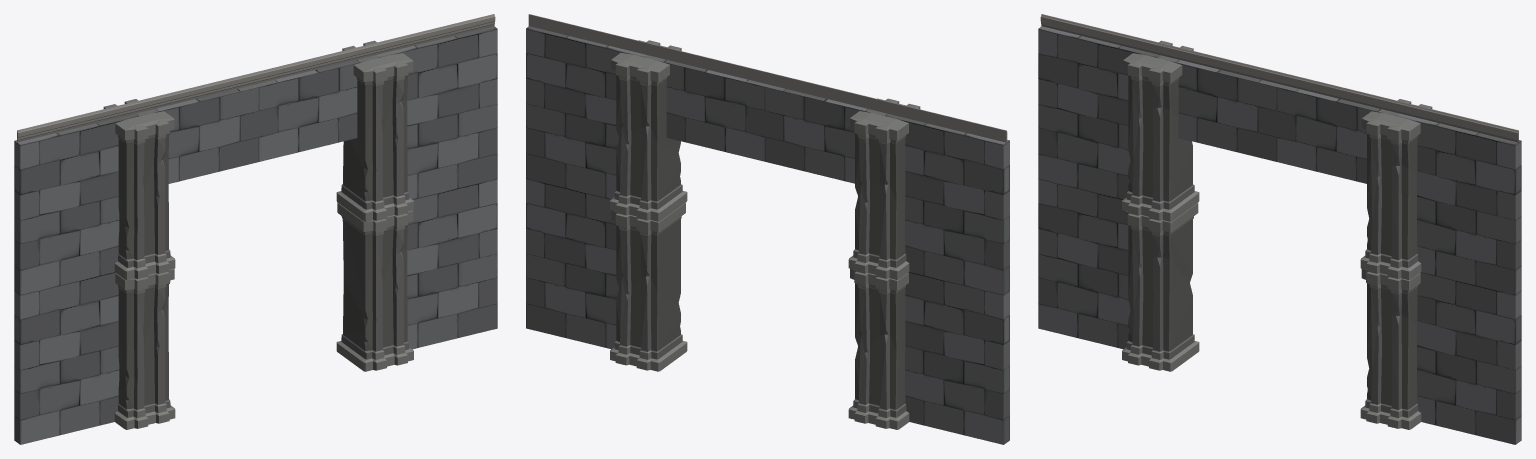
The model's file is crypt_arch.gltf.
3 renders of one model, left to right at view 1: azimuth 30°, elevation 25°; view 2: azimuth 150°, elevation 25°; view 3: azimuth 330°, elevation 25°, orthographic.
Parts seen in each view (by area): view 1: crypt_arch; view 2: crypt_arch; view 3: crypt_arch.
Part boxes in pixels (<box>): crypt_arch: <box>14,14,497,444</box>; crypt_arch: <box>526,14,1009,444</box>; crypt_arch: <box>1038,14,1521,444</box>.
Bounding box in the file's own units: 10 × 6.24 × 1.23.
2 materials, 2 textured.
